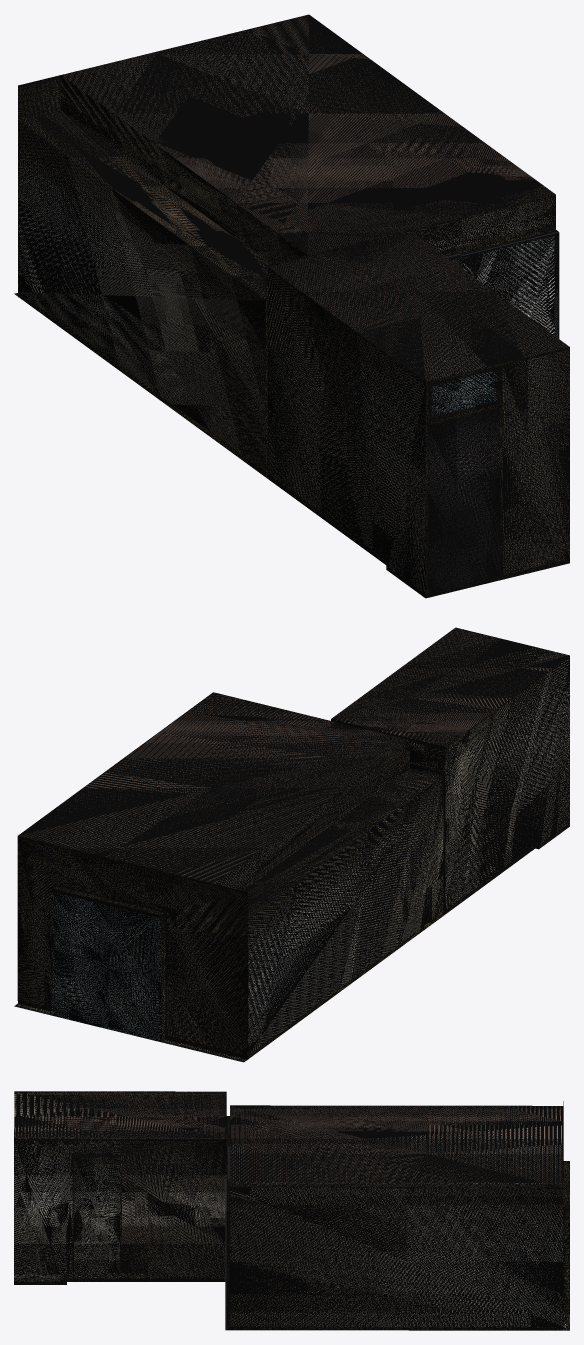
The model's file is small_apartment_morning_version.fbx.
The picture shows the model from 3 angles, top to bottom: view 1: azimuth 30°, elevation 25°; view 2: azimuth 150°, elevation 25°; view 3: azimuth 270°, elevation 25°; orthographic projection. The views are drawn at different scales.
Visible parts, largest first — view 1: Material2, Material2_1; view 2: Material2, Material2_1; view 3: Material2, Material2_1.
Boxes of the visible parts, box(x1,y1,x2,y2) form: Material2: box(14, 14, 569, 598); Material2_1: box(15, 16, 569, 597); Material2: box(14, 627, 569, 1062); Material2_1: box(15, 628, 569, 1061); Material2: box(14, 1091, 569, 1330); Material2_1: box(14, 1091, 569, 1330).
Bounding box in the file's own units: 2102 × 1482 × 5113.
Materials: 8 (8 with a texture image).
